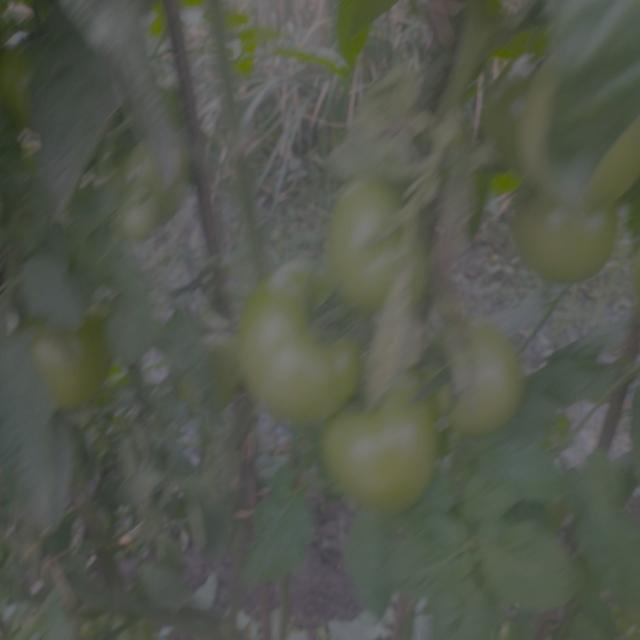tomato: (223, 259, 375, 417), (414, 321, 541, 447), (313, 168, 431, 303), (506, 156, 624, 283), (322, 389, 433, 522), (21, 309, 119, 413), (106, 173, 172, 242), (1, 39, 51, 130)
